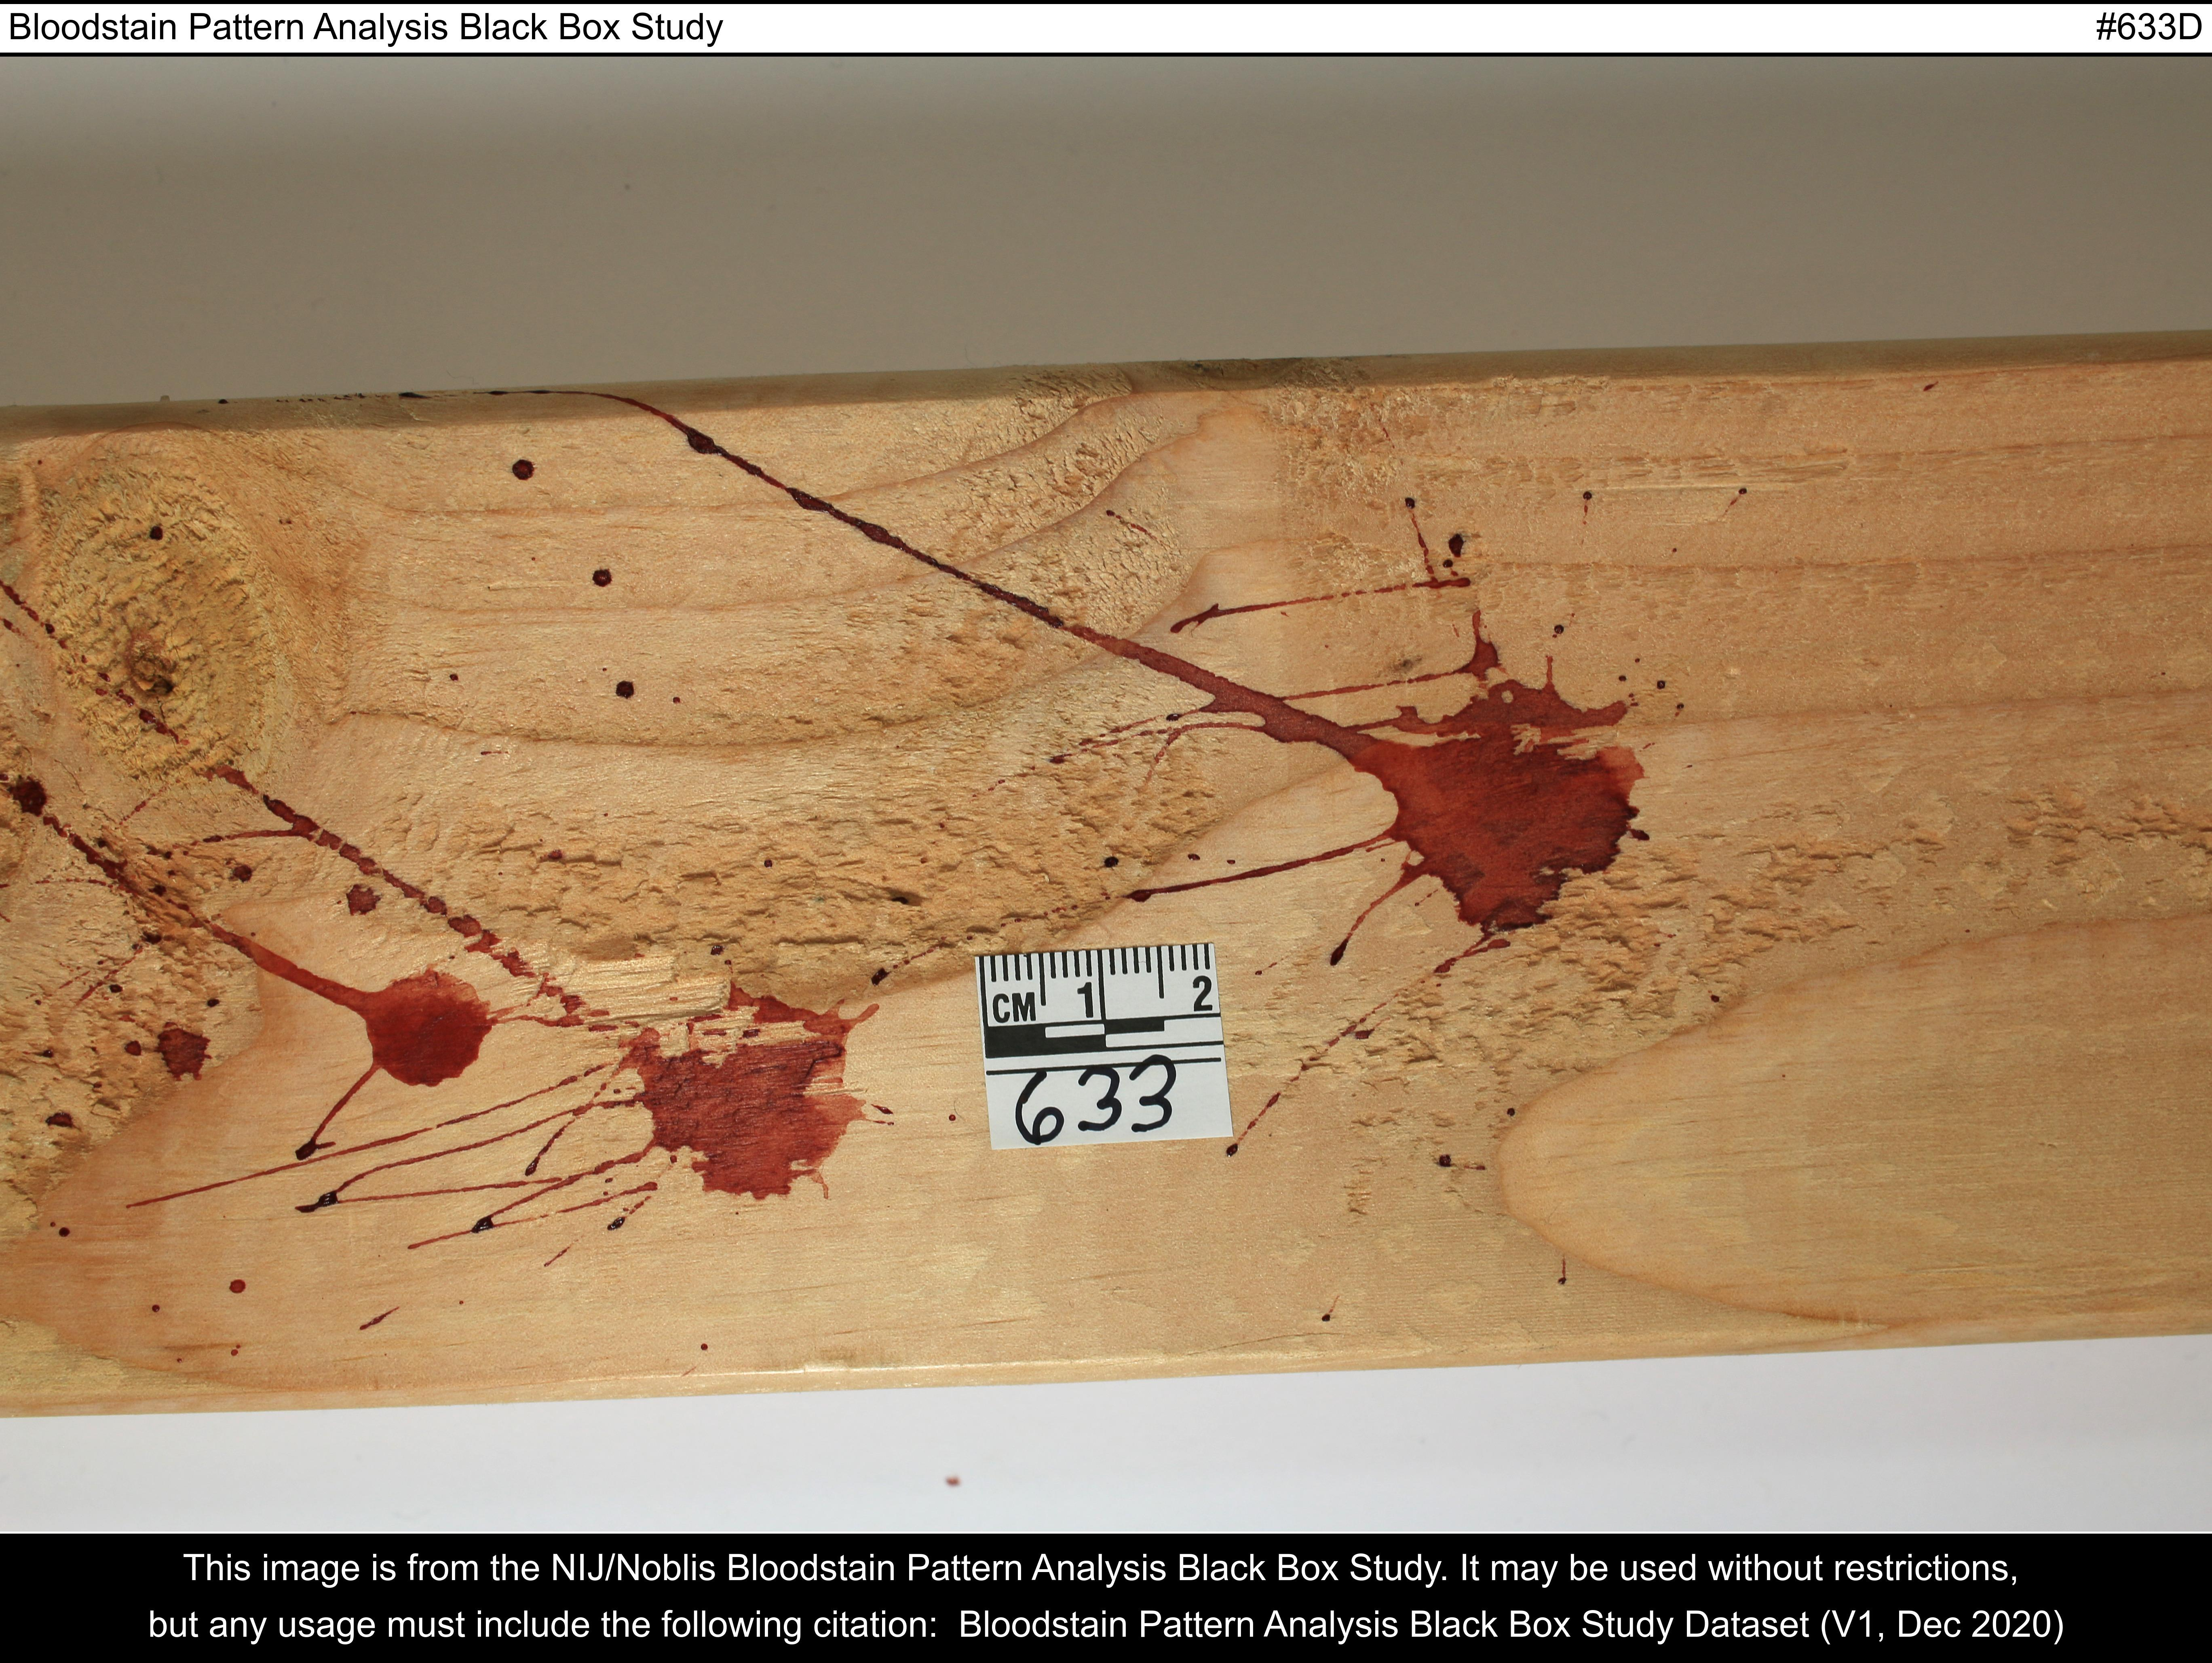Transfer: (1248, 566, 1728, 971)
